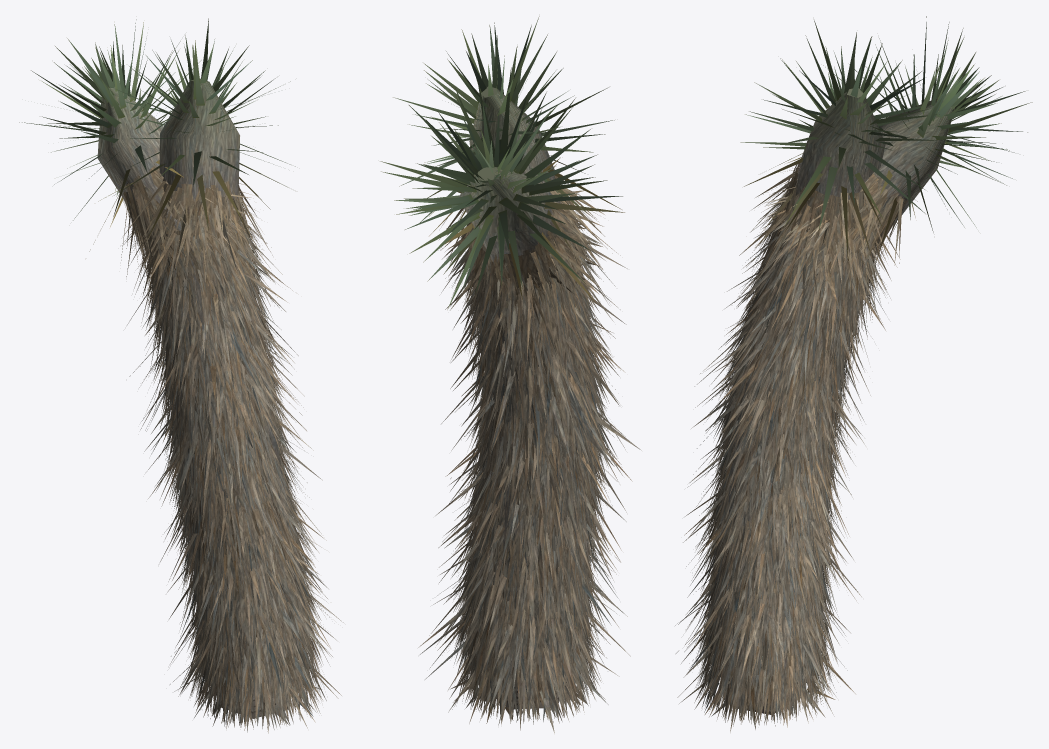
File: joshua_a_lod1.glb
3 renders of one model, left to right at view 1: azimuth 30°, elevation 25°; view 2: azimuth 150°, elevation 25°; view 3: azimuth 270°, elevation 25°, orthographic. The views are drawn at different scales.
Parts seen in each view (by area): view 1: joshua_a_lod1; view 2: joshua_a_lod1; view 3: joshua_a_lod1.
Boxes of the visible parts, x1=… form: joshua_a_lod1: x1=19, y1=18, x2=343, y2=733; joshua_a_lod1: x1=380, y1=16, x2=641, y2=733; joshua_a_lod1: x1=675, y1=16, x2=1032, y2=732.
Bounding box in the file's own units: 1.08 × 3.02 × 1.5.
Materials: 3 (3 with a texture image).
